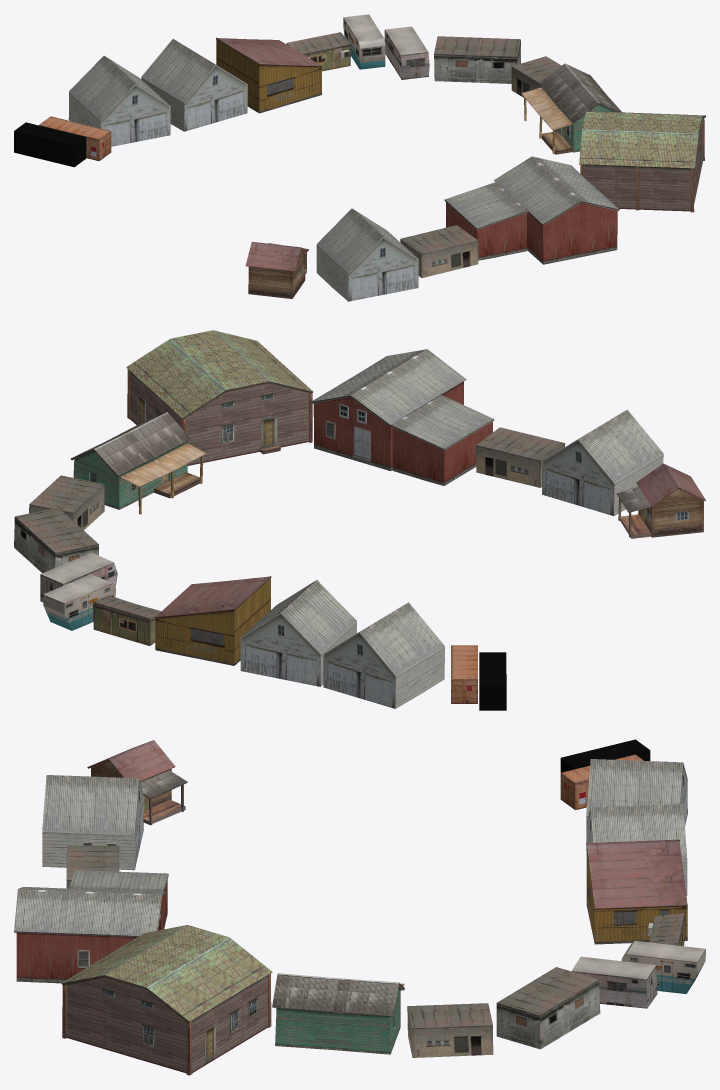
The model's file is cap.glb.
3 renders of one model, top to bottom at view 1: azimuth 30°, elevation 25°; view 2: azimuth 150°, elevation 25°; view 3: azimuth 270°, elevation 25°, orthographic. The views are drawn at different scales.
Visible parts, largest first — view 1: Object_6, Object_4; view 2: Object_6, Object_4; view 3: Object_6, Object_4.
Part boxes in pixels (left/top/right/bottom): Object_6: left=39, top=14, right=705, bottom=301; Object_4: left=14, top=122, right=86, bottom=167; Object_6: left=14, top=330, right=705, bottom=708; Object_4: left=479, top=652, right=506, bottom=710; Object_6: left=14, top=740, right=705, bottom=1075; Object_4: left=560, top=739, right=650, bottom=772.
Size of what is drawn, in the model's own units: 5151 by 601 by 4861.
3 materials, 2 textured.
